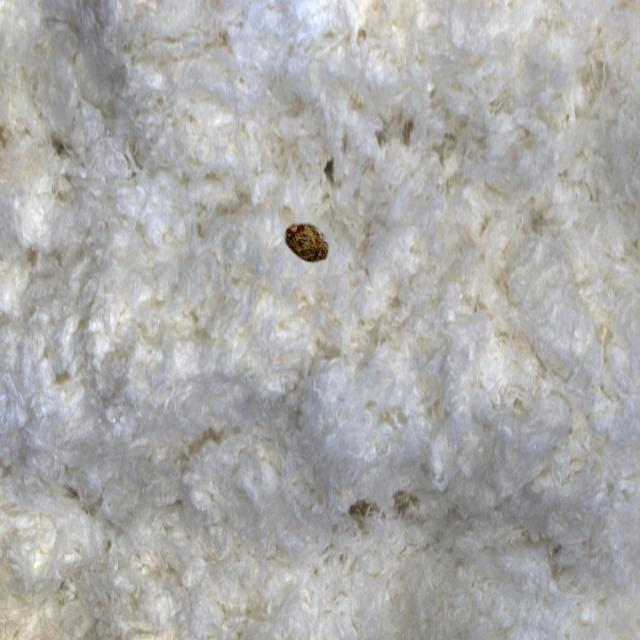dust: (271, 183, 356, 314)
